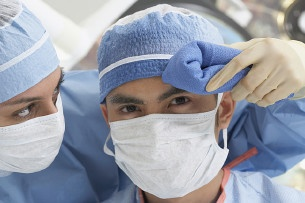Mask: (108, 81, 219, 192)
